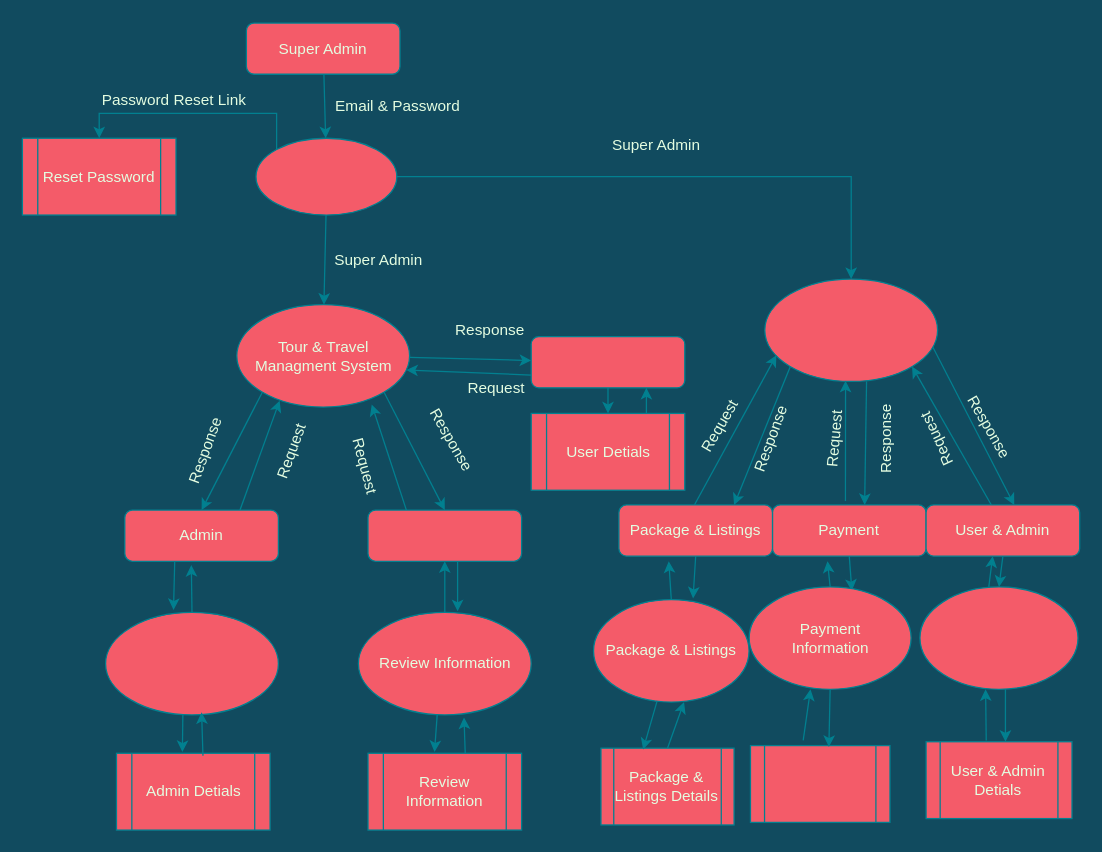
Image size: 1102x852. Some labels were removed from this diagram. The shapes that lost their labels are listed below. From the top down, each one's box as (x1, y1, x2, y2) in pixels, then its label:
(255, 137, 397, 215): Login
(764, 278, 938, 381): Managment System
(530, 335, 685, 388): User
(367, 509, 522, 561): Visitor
(919, 586, 1078, 689): User & Admin Information
(104, 611, 278, 715): Admin Information
(749, 744, 890, 822): Payment Details
